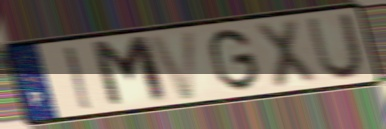G: (208, 26, 263, 94)
I: (61, 44, 96, 112)
M: (88, 33, 173, 111)
U: (304, 11, 366, 82)
V: (145, 27, 200, 103)
X: (252, 16, 321, 91)
